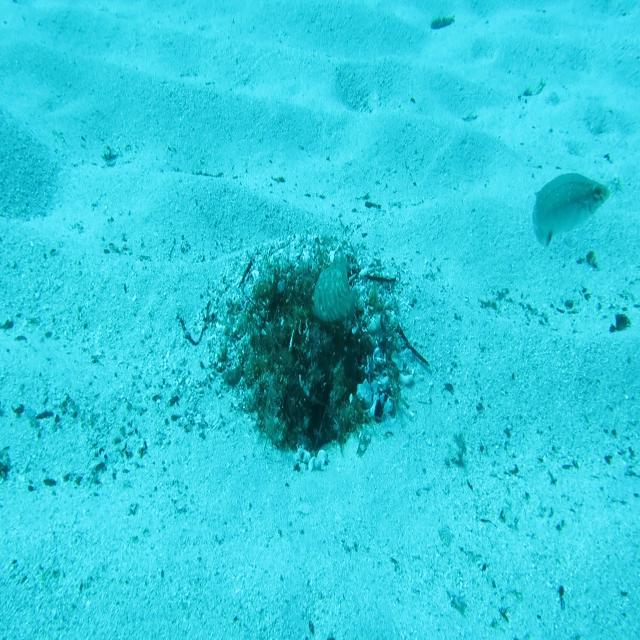NIP_CORE: (306, 246, 363, 331)
core_nest: (280, 286, 335, 332)
female: (528, 167, 611, 259)
nest: (207, 224, 427, 482)
vegetation: (612, 311, 630, 336)
